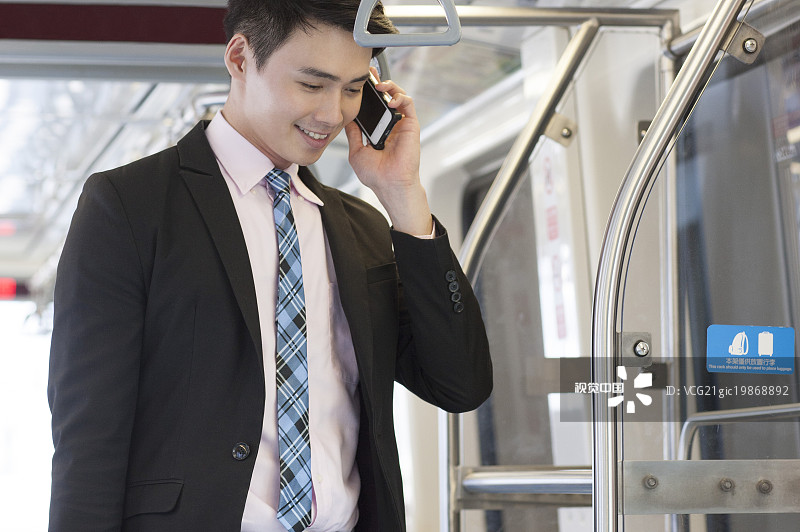calling: (329, 69, 463, 231)
